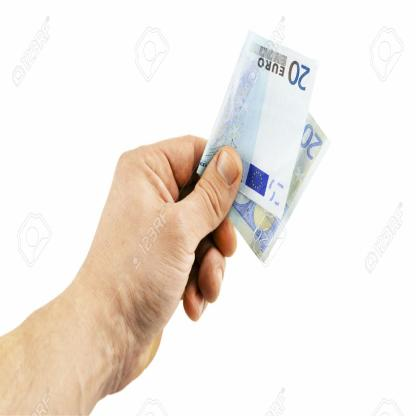billete: (194, 27, 332, 267)
